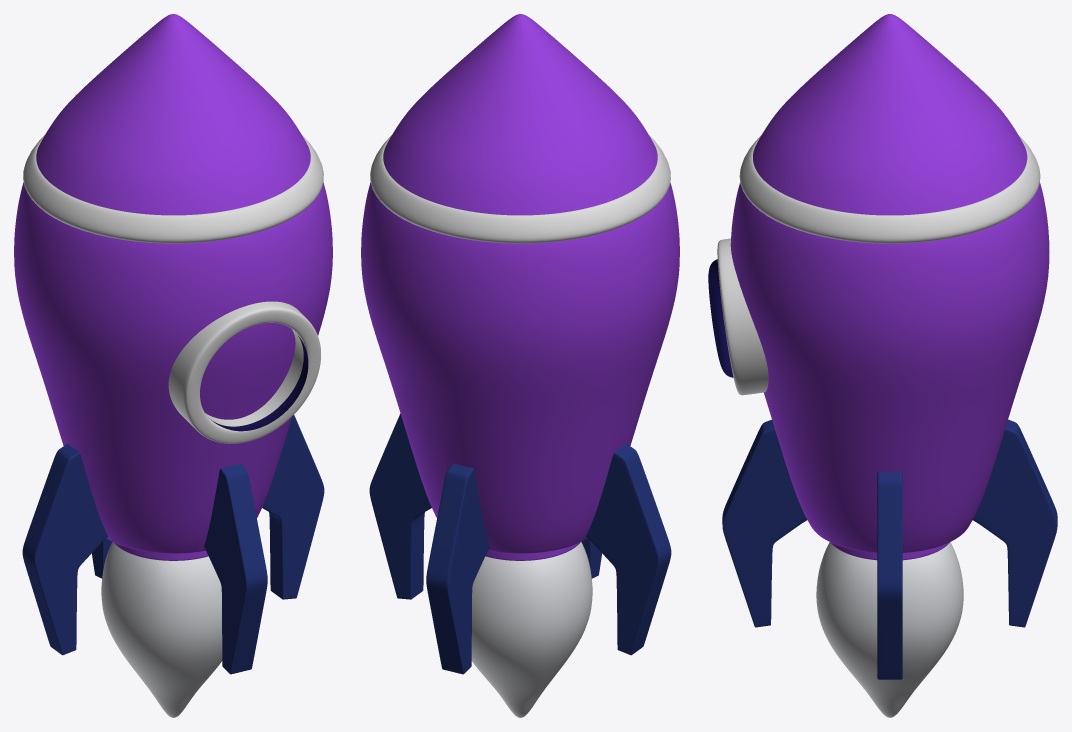
Rendered from car.glb.
The picture shows the model from 3 angles, left to right: view 1: azimuth 30°, elevation 25°; view 2: azimuth 150°, elevation 25°; view 3: azimuth 270°, elevation 25°; orthographic projection.
Visible parts, largest first — view 1: rocket; view 2: rocket; view 3: rocket.
Boxes of the visible parts, box(x1,y1,x2,y2) form: rocket: box(14, 14, 332, 717); rocket: box(361, 14, 679, 717); rocket: box(708, 14, 1057, 717).
Size of the model in its own units: 0.8393 by 1.94 by 0.8746.
